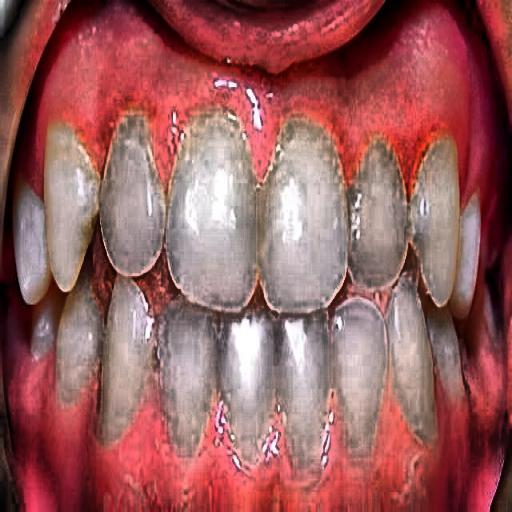Healthy: (51, 143, 492, 434)
